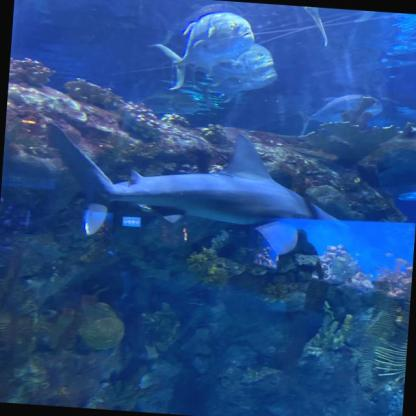fish: (152, 7, 255, 95), (272, 5, 409, 52), (298, 90, 380, 142), (203, 40, 280, 91), (397, 188, 415, 204)
shark: (40, 119, 356, 254)
